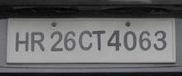0: (123, 30, 138, 52)
2: (49, 30, 64, 52)
3: (154, 30, 167, 52)
4: (106, 30, 123, 51)
6: (138, 30, 153, 52), (62, 30, 77, 51)
C: (78, 30, 93, 52)
H: (14, 31, 30, 53)
R: (30, 32, 47, 53)
T: (91, 30, 106, 51)
